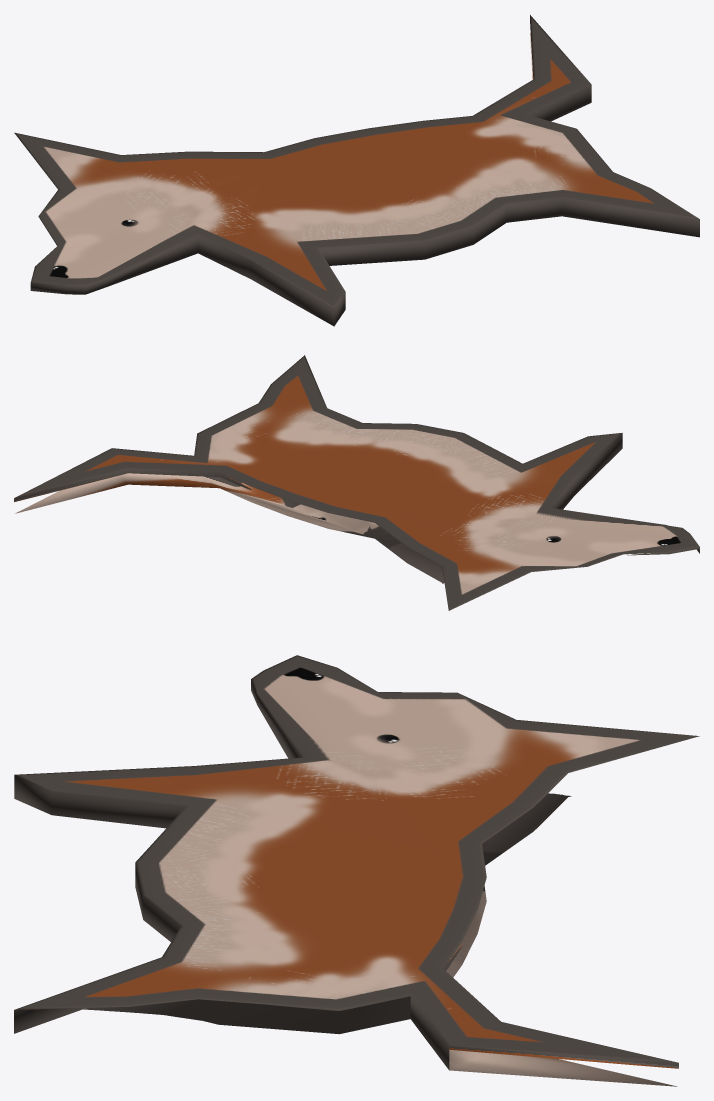
The model's file is Mousepad.fbx.
3 renders of one model, top to bottom at view 1: azimuth 30°, elevation 25°; view 2: azimuth 150°, elevation 25°; view 3: azimuth 270°, elevation 25°, orthographic. The views are drawn at different scales.
Parts seen in each view (by area): view 1: Mousepad; view 2: Mousepad; view 3: Mousepad.
Boxes of the visible parts, bbox=[...] form: Mousepad: bbox=[14, 15, 699, 326]; Mousepad: bbox=[14, 355, 699, 610]; Mousepad: bbox=[14, 655, 699, 1086].
Bounding box in the file's own units: 46.31 × 1.32 × 32.41.
Materials: 1 (1 with a texture image).
